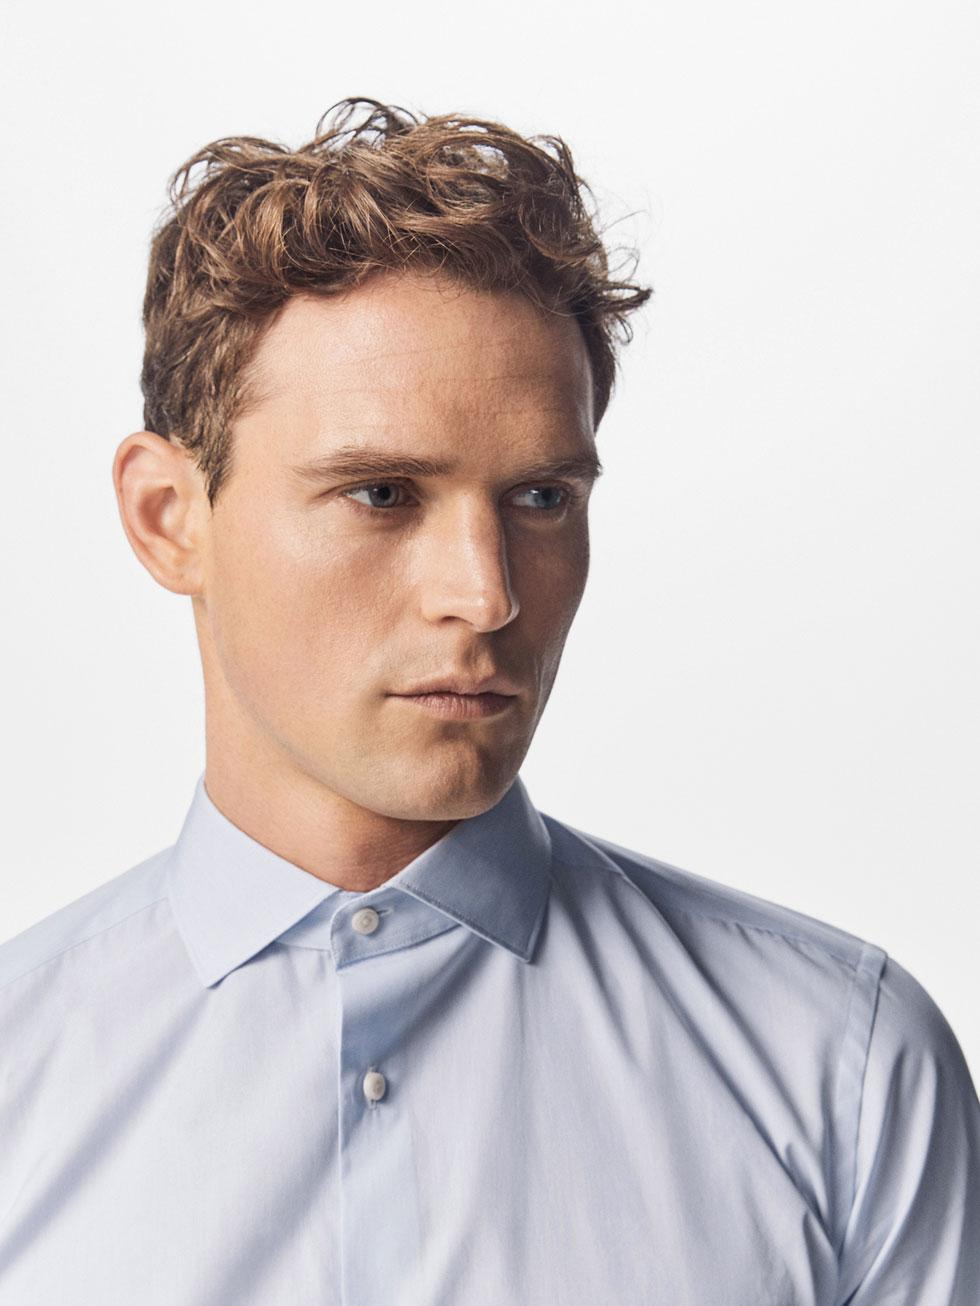teeshirt: (1, 773, 975, 1302)
